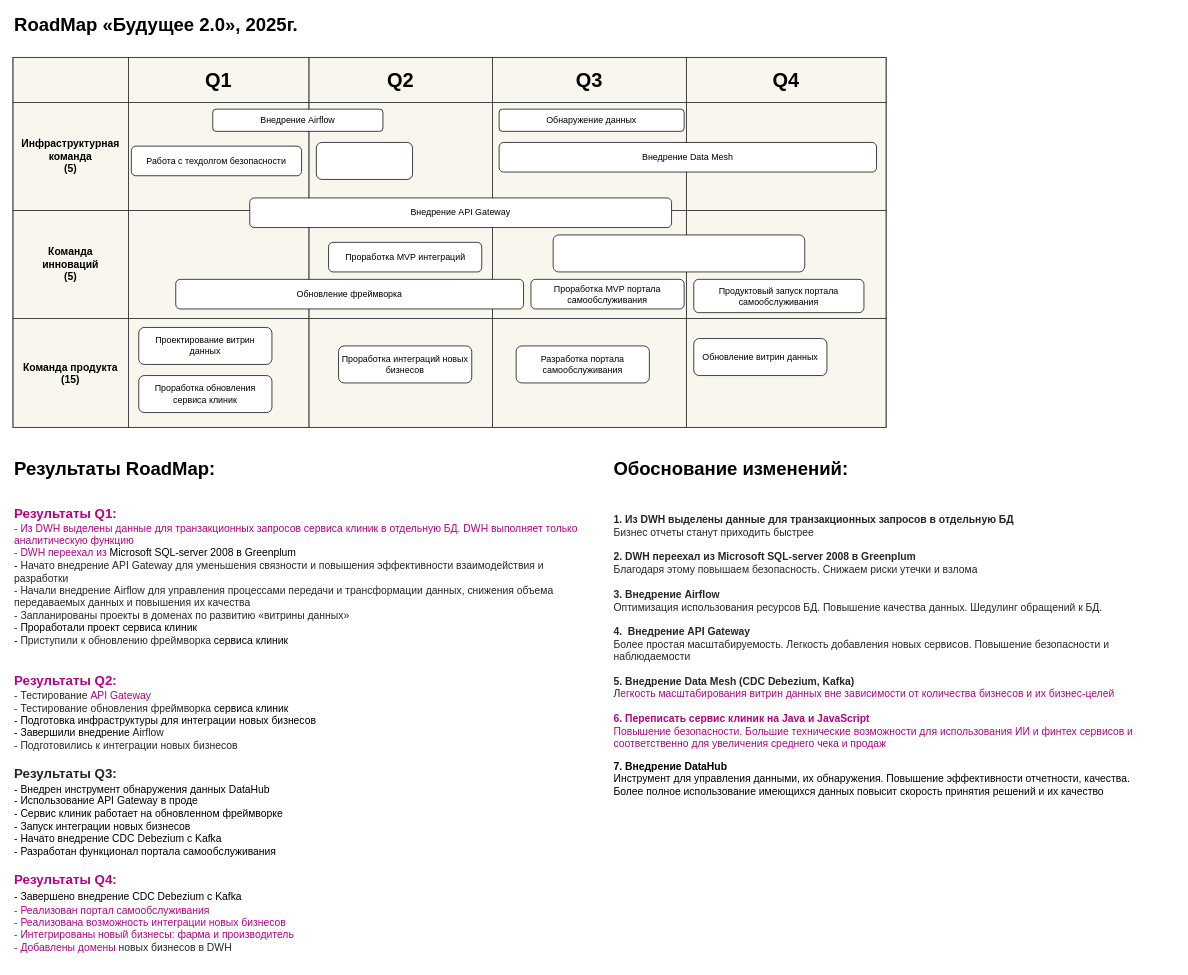
Image size: 1188x975. Some labels were removed from this diagram. The centre of each missing label's shape, as x and y in pixels:
"Интеграция новых бизнесов" belongs at [678,253].
"Подготовка инфраструктура" belongs at [364,160].
